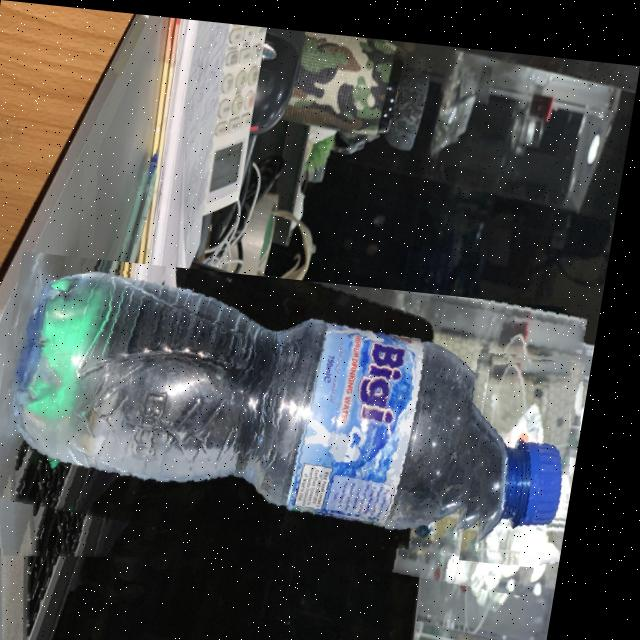litter: (0, 250, 608, 586), (475, 341, 602, 556)
